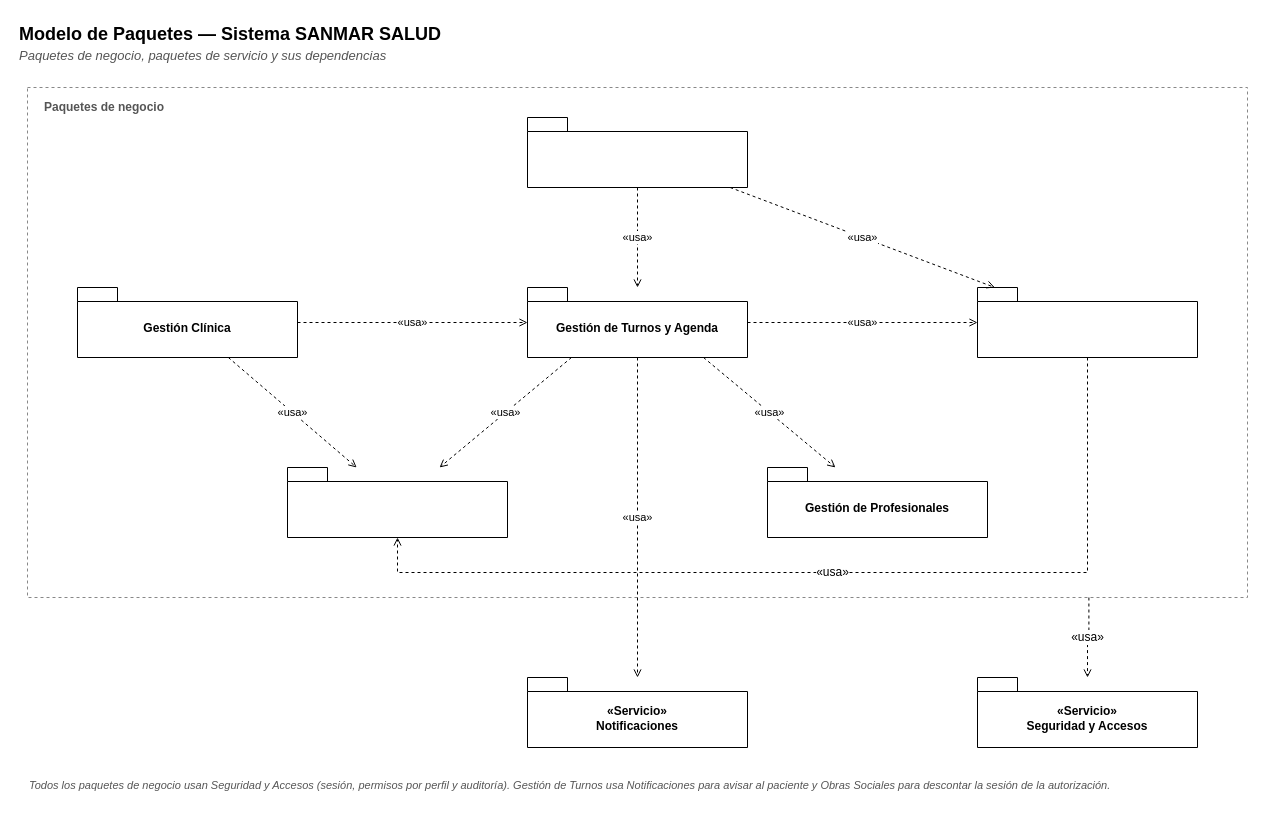
Some shapes in this 1265 by 829 pixel diagram are drawn without their labels. Each missing label, with the centre of its shape:
"Dashboard" goes at (x=637, y=152).
"Gestión de Obras Sociales" goes at (x=1087, y=322).
"Gestión de Pacientes" goes at (x=397, y=502).
